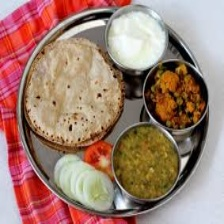sabzi: (142, 63, 210, 128)
